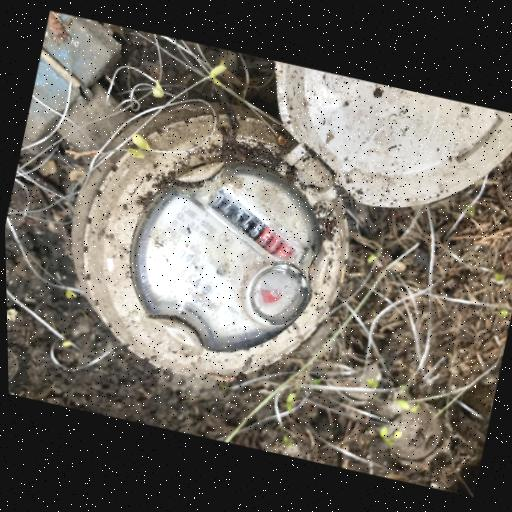0: (207, 186, 231, 212)
1: (261, 230, 285, 257)
3: (224, 201, 250, 229)
4: (214, 193, 241, 221), (270, 238, 297, 266), (234, 209, 260, 236)
5: (243, 217, 269, 245), (254, 224, 277, 251)
border_water_meter_number: (186, 172, 317, 278)
